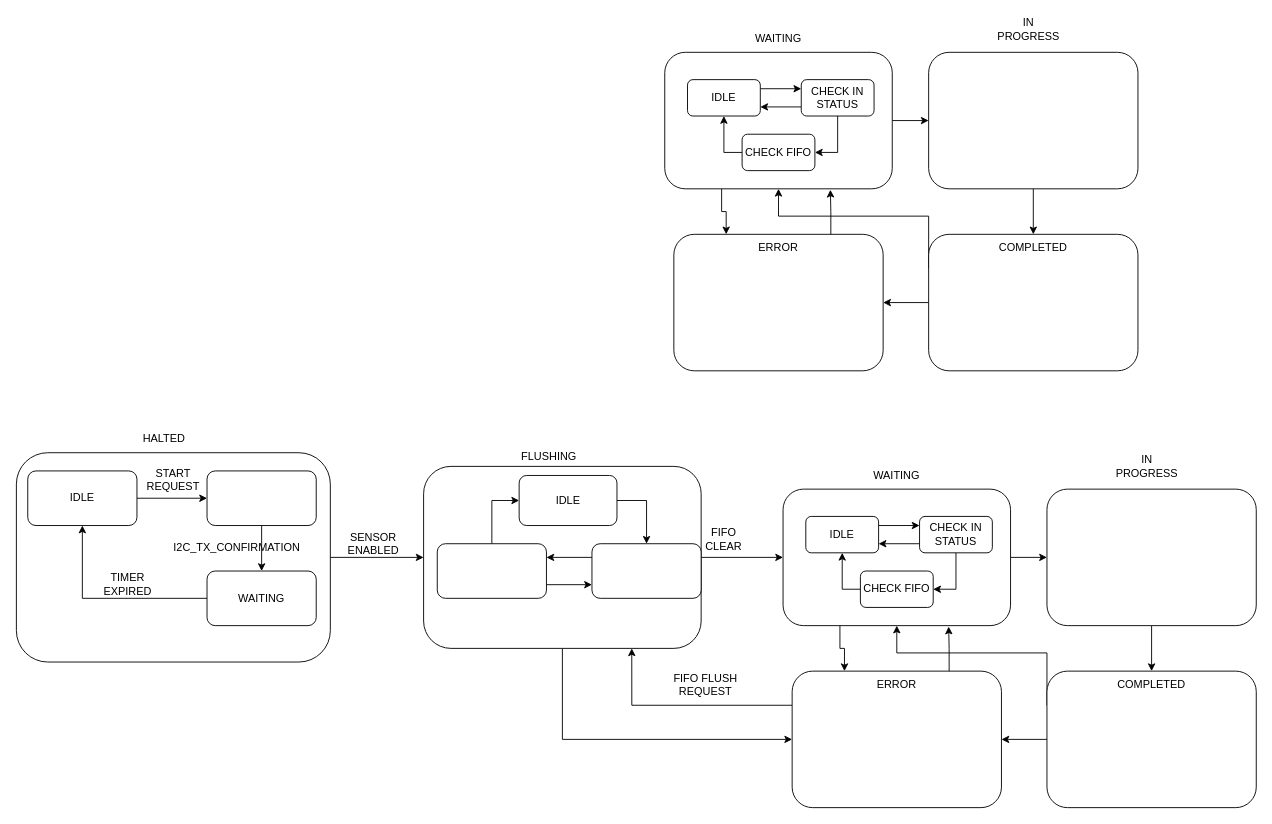
Some shapes in this 1272 by 824 pixel diagram are drawn without their labels. Each missing label, with the centre of its shape:
"CHECKING FIFO CAPACITY" goes at point 491,570.
"READING DATA" goes at point 646,570.
"SET_POWER_CTL" goes at point 261,498.
